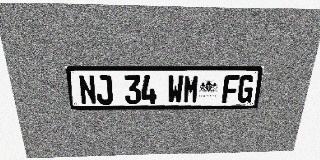3: (124, 75, 141, 104)
4: (141, 75, 157, 104)
F: (222, 75, 240, 103)
G: (236, 75, 255, 103)
J: (95, 75, 113, 104)
M: (183, 75, 200, 103)
N: (78, 75, 97, 104)
W: (167, 75, 184, 104)
